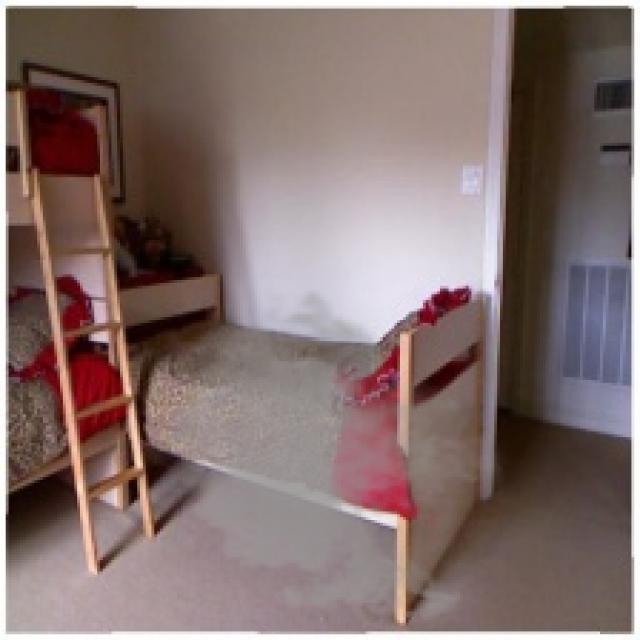Smoke: (143, 288, 526, 632)
